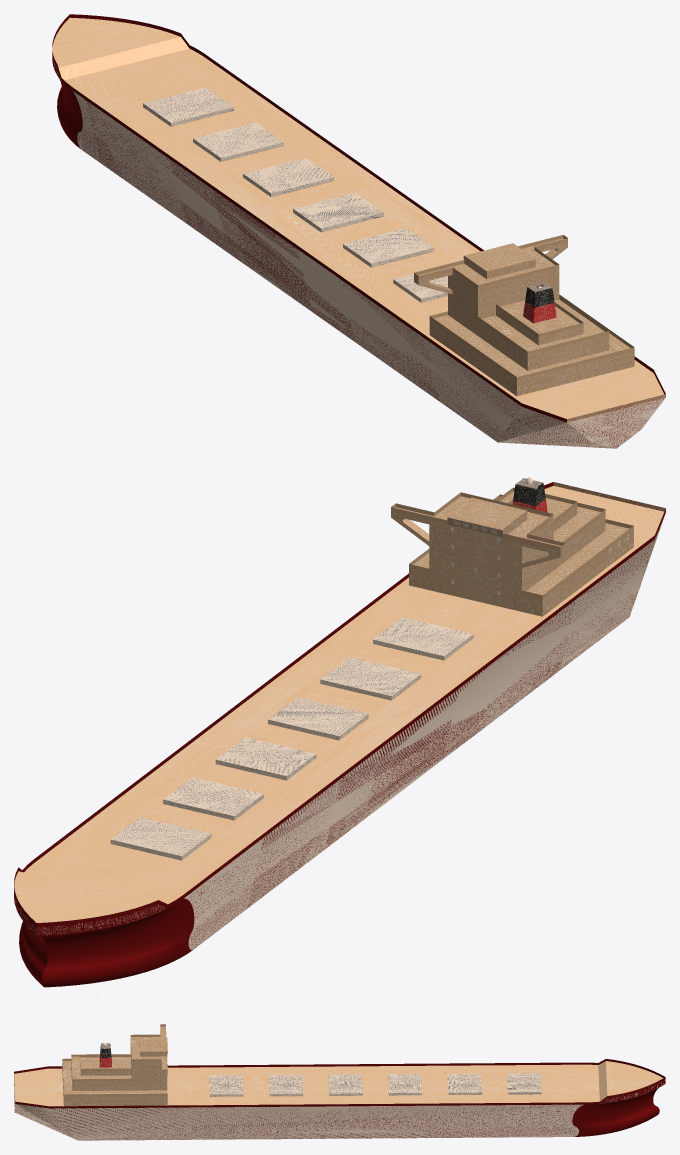
The model's file is Sudno (1).dae.
3 views of the same model, one above another, from view 1: azimuth 30°, elevation 25°; view 2: azimuth 150°, elevation 25°; view 3: azimuth 270°, elevation 25° (orthographic). The views are drawn at different scales.
Visible parts, largest first — view 1: SketchUp (×13); view 2: SketchUp (×13); view 3: SketchUp (×15).
Boxes of the visible parts, x1,y1,x2,y2 form: SketchUp (×13): (52,14,665,448); SketchUp (×13): (14,482,665,987); SketchUp (×15): (14,1024,665,1140).
Size of the model in its own units: 1010 by 6097 by 834.
